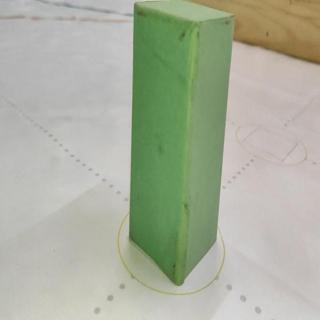greenbox: (132, 0, 228, 280)
